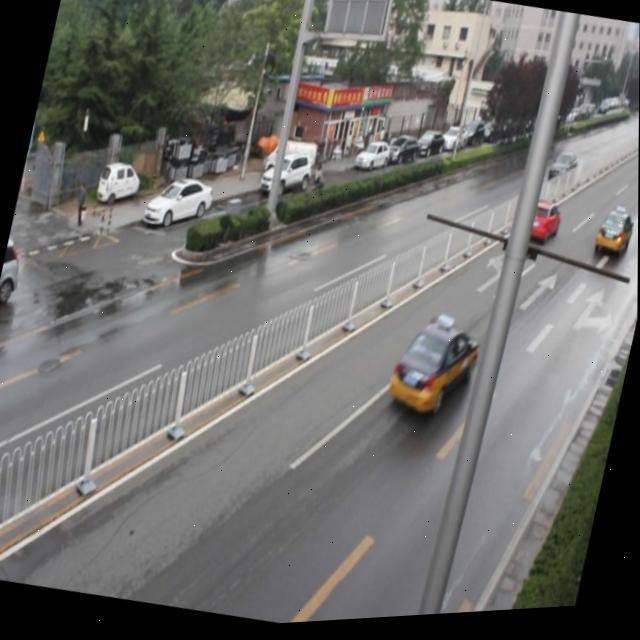car: (383, 305, 486, 433), (589, 208, 636, 267), (517, 200, 563, 255), (547, 152, 580, 189)
